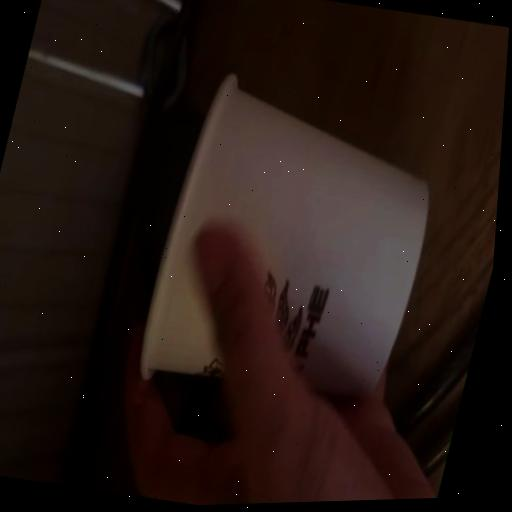ly_giay: (141, 75, 428, 393)
